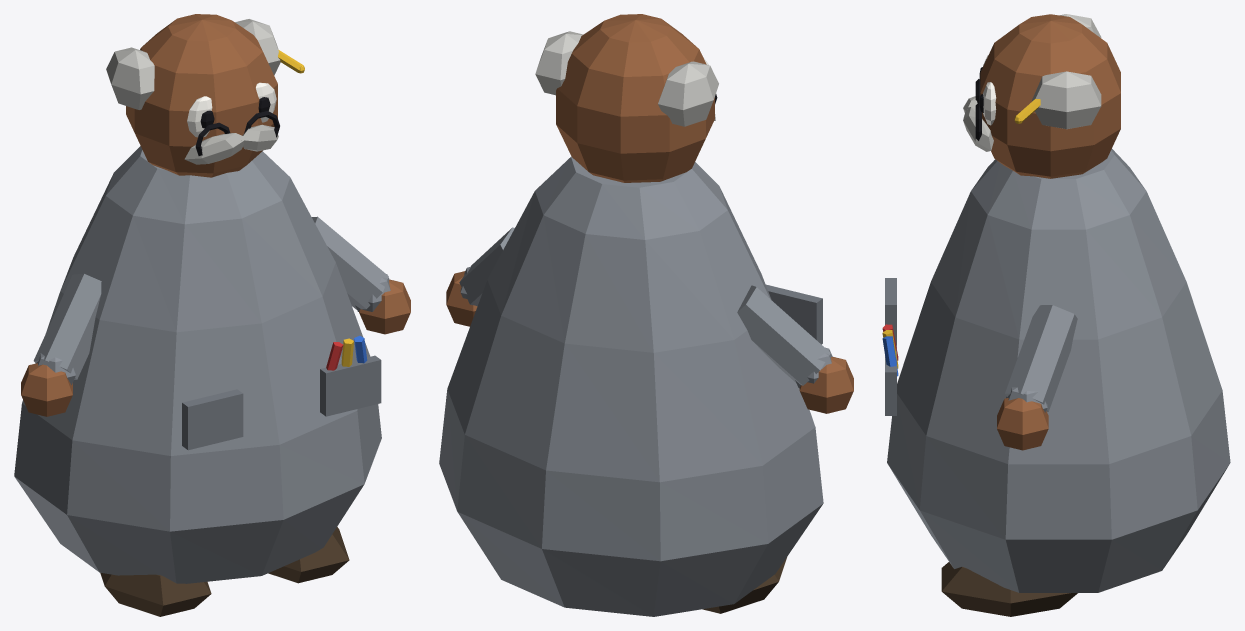
The model's file is npc_ferretero.glb.
3 views of the same model, side by side, from view 1: azimuth 30°, elevation 25°; view 2: azimuth 150°, elevation 25°; view 3: azimuth 270°, elevation 25° (orthographic). The views are drawn at different scales.
Parts seen in each view (by area): view 1: body_shop_coat, head_skin_cacao, arms_shop_coat, body_coat_pocket (×2), legs_work_boots, arms_skin_cacao, head_hair_grey, face_mustache_grey, face_white, face_black; view 2: body_shop_coat, head_skin_cacao, arms_shop_coat, head_hair_grey, arms_skin_cacao, body_coat_pocket, legs_work_boots; view 3: body_shop_coat, head_skin_cacao, arms_shop_coat, legs_work_boots, head_hair_grey, arms_skin_cacao, body_coat_pocket (×2), face_mustache_grey, face_white.
Boxes of the visible parts, x1,y1,x2,y2 form: body_shop_coat: (14, 146, 381, 583); head_skin_cacao: (126, 14, 277, 177); arms_shop_coat: (33, 216, 390, 384); body_coat_pocket (×2): (182, 355, 381, 450); legs_work_boots: (100, 527, 349, 616); arms_skin_cacao: (21, 279, 410, 416); head_hair_grey: (106, 19, 280, 109); face_mustache_grey: (184, 124, 278, 164); face_white: (187, 82, 276, 137); face_black: (195, 97, 279, 155); body_shop_coat: (439, 156, 823, 616); head_skin_cacao: (556, 14, 714, 182); arms_shop_coat: (459, 227, 832, 388); head_hair_grey: (535, 31, 718, 126); arms_skin_cacao: (446, 271, 853, 413); body_coat_pocket: (766, 284, 822, 344); legs_work_boots: (702, 557, 786, 613); body_shop_coat: (887, 149, 1230, 592); head_skin_cacao: (980, 14, 1120, 178); arms_shop_coat: (1005, 305, 1077, 412); legs_work_boots: (941, 562, 1077, 616); head_hair_grey: (1032, 14, 1101, 129); arms_skin_cacao: (997, 398, 1048, 450); body_coat_pocket (×2): (885, 278, 896, 415); face_mustache_grey: (963, 96, 993, 151); face_white: (983, 55, 996, 125).
Bounding box in the file's own units: 1.13 × 1.53 × 0.8713.
